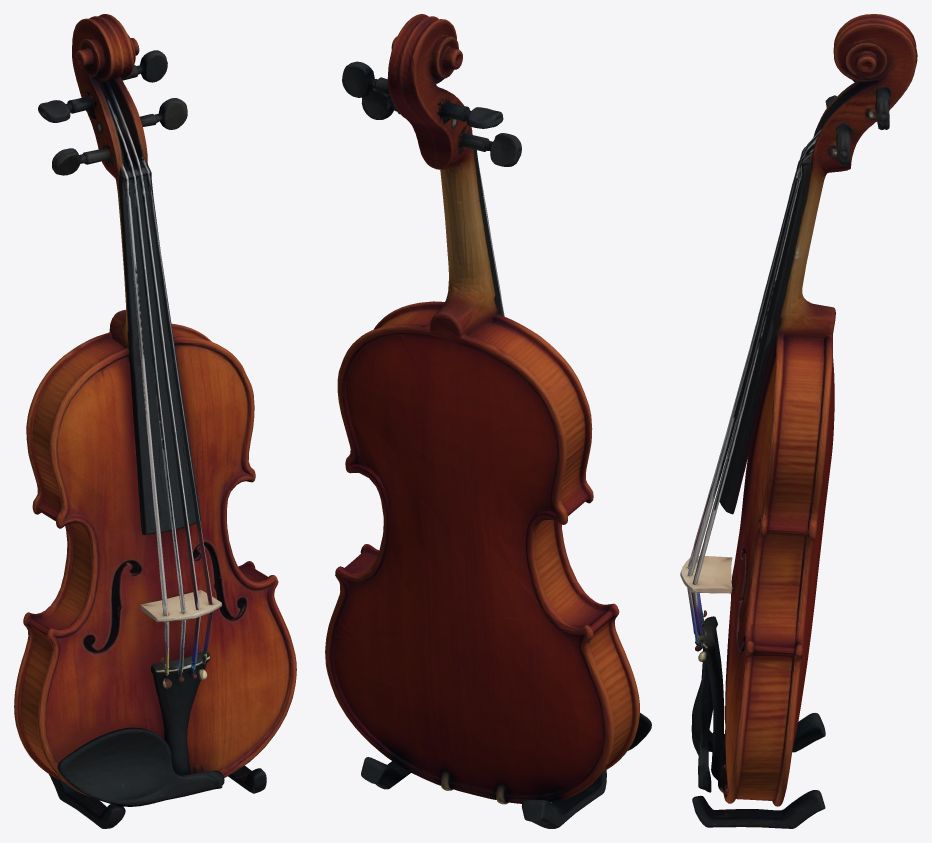
The model's file is violin.glb.
The picture shows the model from 3 angles, left to right: view 1: azimuth 30°, elevation 25°; view 2: azimuth 150°, elevation 25°; view 3: azimuth 270°, elevation 25°; orthographic projection. The views are drawn at different scales.
Parts seen in each view (by area): view 1: world; view 2: world; view 3: world.
Part boxes in pixels (box(x1,y1,x2,y2)): world: box(14, 14, 296, 828); world: box(325, 14, 651, 828); world: box(680, 14, 917, 828).
Size of the model in its own units: 0.367 by 0.9991 by 0.2785.
Materials: 1 (1 with a texture image).
